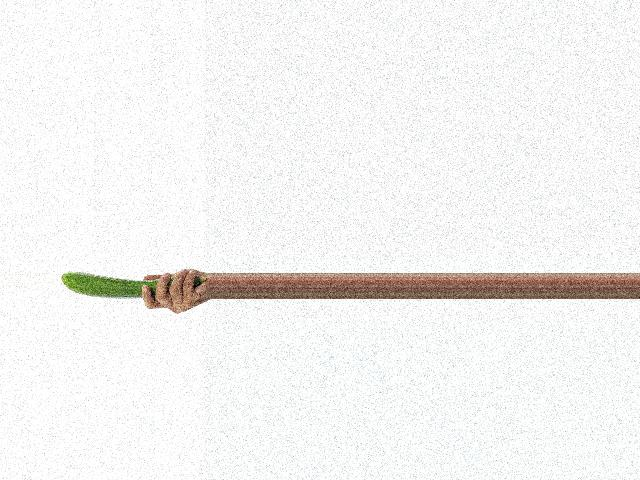cucumber: (60, 271, 206, 298)
